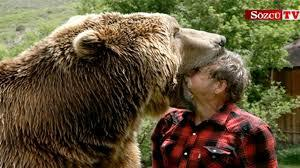bear: (1, 1, 251, 164)
